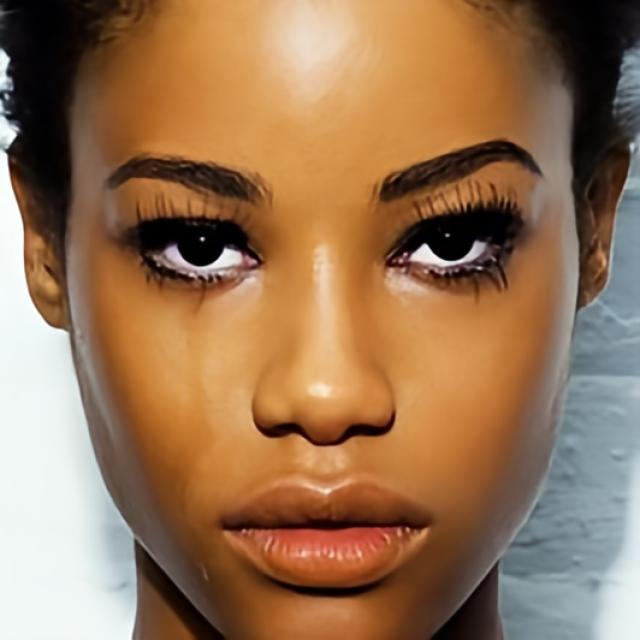neutral: (64, 0, 582, 640)
